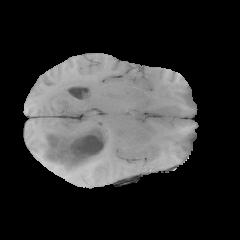glioma: (41, 126, 108, 174)
